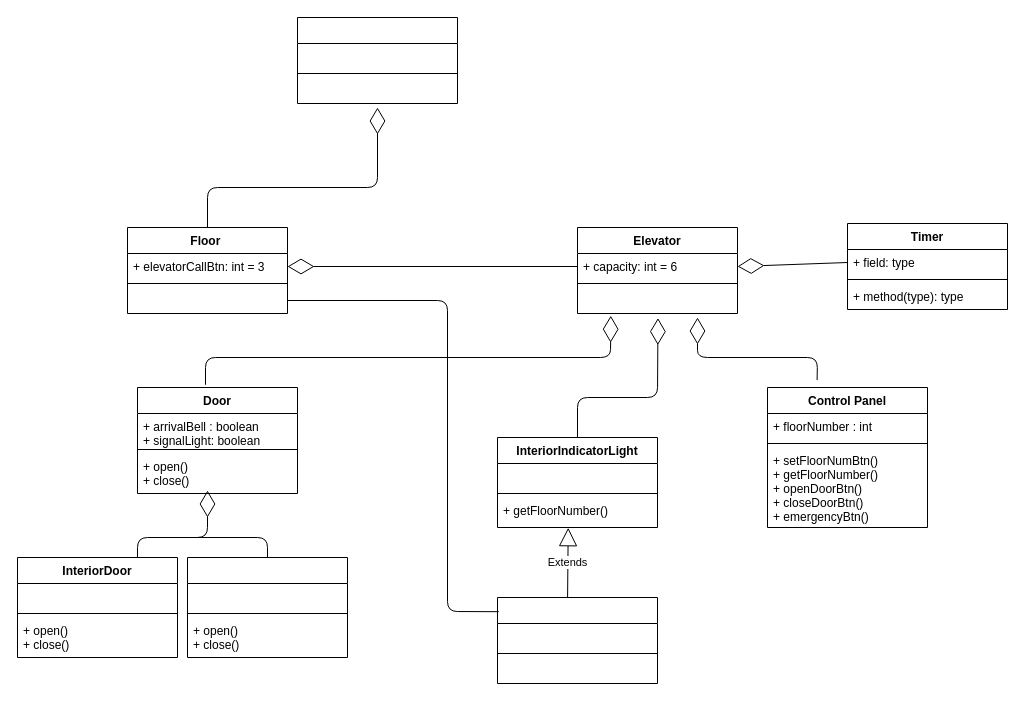
Some shapes in this 1025 by 704 pixel diagram are drawn without their labels. The box of each missing label's shape, as (x1, y1, x2, y2) in pixels:
Building: (296, 16, 458, 104)
ExteriorDoor: (186, 556, 348, 658)
ExteriorIndicatorLight: (496, 596, 658, 684)
